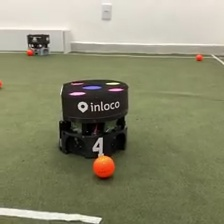ball: (90, 153, 116, 180), (25, 47, 34, 56), (195, 52, 203, 61)
goal: (1, 27, 73, 55)
robot: (56, 77, 131, 161), (24, 32, 51, 57)
